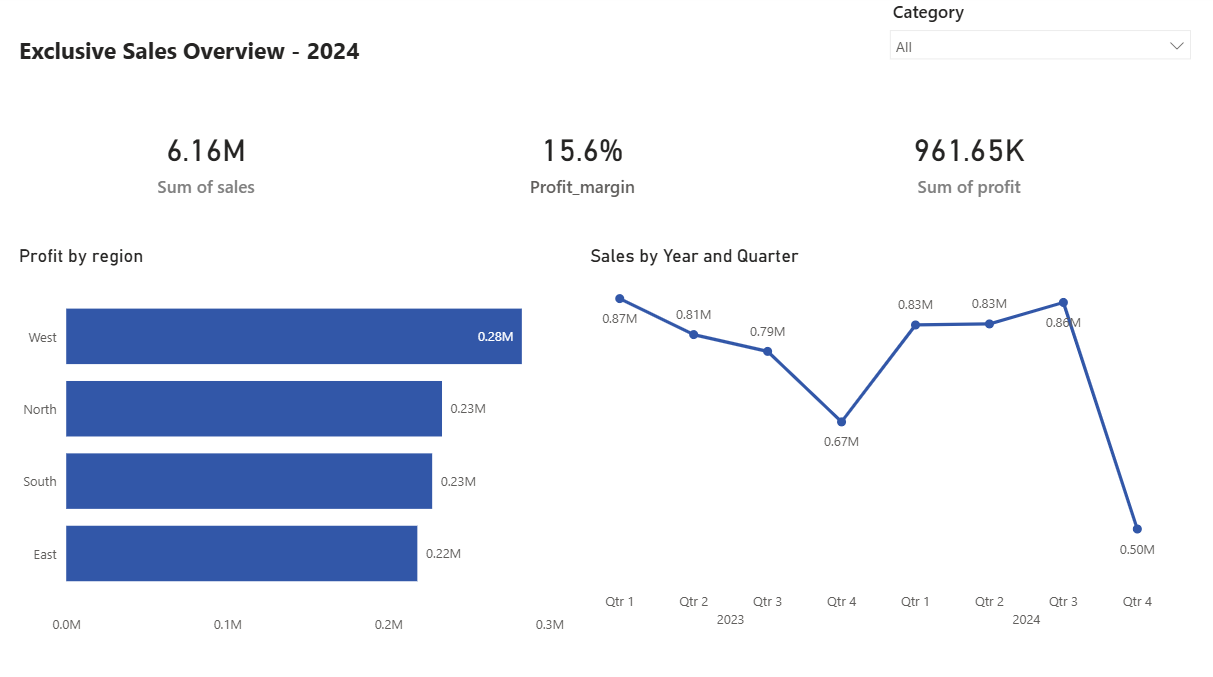

This screenshot's page, from the dashboard's own definition file:
{"tool":"powerbi","page":{"name":"Page 1","canvas":[1280,720],"ordinal":0},"visuals":[{"type":"card","fields":{"Values":["Sum(my_portfolio my_generated_data.profit)"]},"box":[819.8,74.4,377.9,159.3],"z":0},{"type":"card","fields":{"Values":["Sum(my_portfolio my_generated_data.sales)"]},"box":[119.8,74.4,358.1,159.3],"z":1000},{"type":"lineChart","title":"Sales by Year and Quarter","fields":{"Category":["my_portfolio my_generated_data.order_date.Variation.Date Hierarchy.Year","my_portfolio my_generated_data.order_date.Variation.Date Hierarchy.Quarter"],"Y":["Sum(my_portfolio my_generated_data.sales)"]},"box":[651.2,233.7,546.5,370.9],"z":2000},{"type":"clusteredBarChart","title":"Profit by region","fields":{"Category":["my_portfolio my_generated_data.region"],"Y":["Sum(my_portfolio my_generated_data.profit)"]},"box":[119.8,233.7,531.4,370.9],"z":3000},{"type":"slicer","fields":{"Values":["my_portfolio my_generated_data.category"]},"box":[924.4,0,300,74.4],"z":4000},{"type":"textbox","box":[119.8,32.6,348.8,41.9],"z":5000},{"type":"card","fields":{"Values":["my_portfolio my_generated_data.Profit_margin"]},"box":[477.9,74.4,341.9,159.3],"z":5001}]}

Visuals, with their boxes in screenshot pixels (x1, y1, x2, y2), scaled from the page's 1280x720 canvas onto the 1213x677 screenshot:
card - Sum(my_portfolio my_generated_data.profit): bbox=[777, 70, 1135, 220]
card - Sum(my_portfolio my_generated_data.sales): bbox=[114, 70, 453, 220]
"Sales by Year and Quarter" lineChart: bbox=[617, 220, 1135, 568]
"Profit by region" clusteredBarChart: bbox=[114, 220, 617, 568]
slicer - my_portfolio my_generated_data.category: bbox=[876, 0, 1160, 70]
textbox: bbox=[114, 31, 444, 70]
card - my_portfolio my_generated_data.Profit_margin: bbox=[453, 70, 777, 220]
